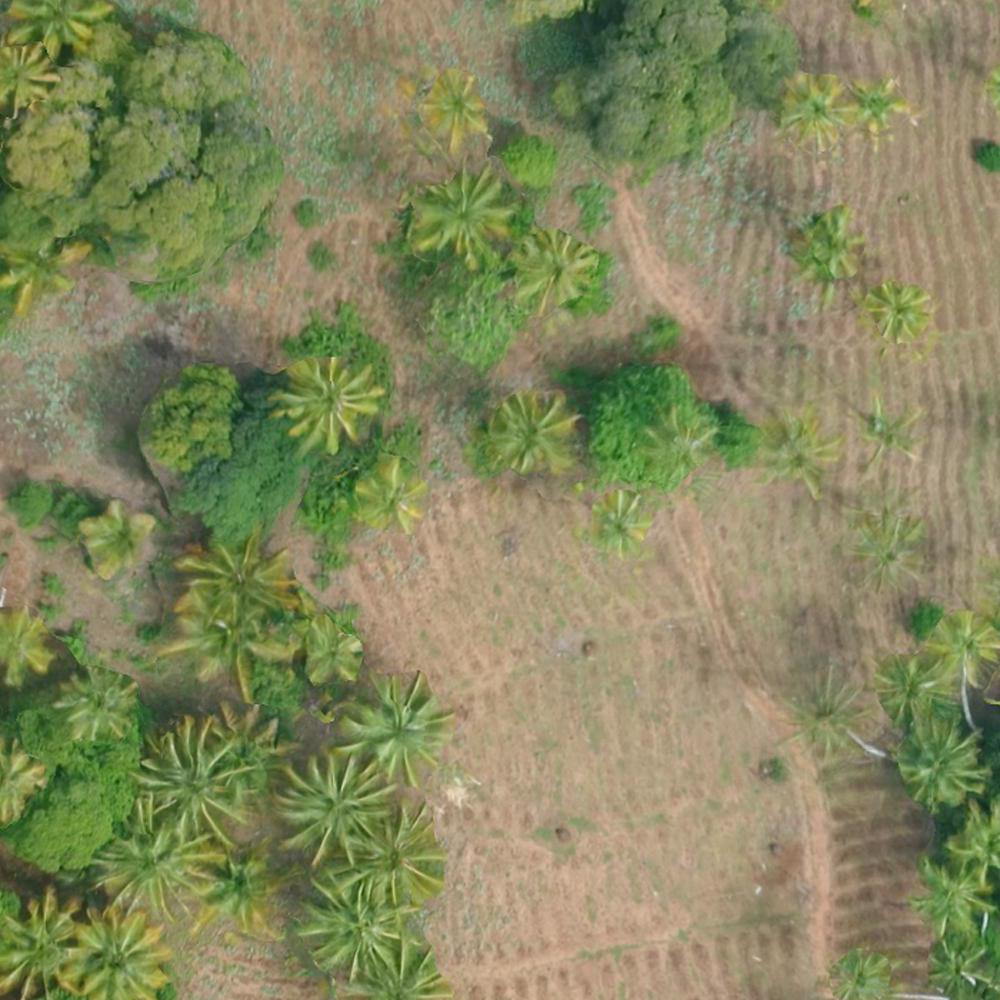Palm: (92, 805, 200, 909), (279, 758, 388, 861), (168, 600, 282, 694), (335, 807, 440, 908), (149, 721, 242, 833), (346, 673, 440, 775), (188, 531, 295, 616), (301, 877, 397, 971), (416, 168, 510, 259), (68, 911, 164, 1000), (279, 357, 374, 443), (1, 893, 80, 994), (895, 729, 988, 806), (492, 391, 578, 467), (53, 664, 134, 742), (514, 226, 595, 301), (191, 852, 268, 929), (357, 452, 426, 529), (849, 510, 921, 582), (80, 502, 148, 572), (416, 74, 486, 141), (778, 74, 845, 143), (850, 396, 919, 463), (866, 279, 936, 345), (845, 73, 909, 144), (931, 613, 997, 681), (303, 615, 366, 686), (915, 868, 988, 929), (585, 493, 651, 559)
